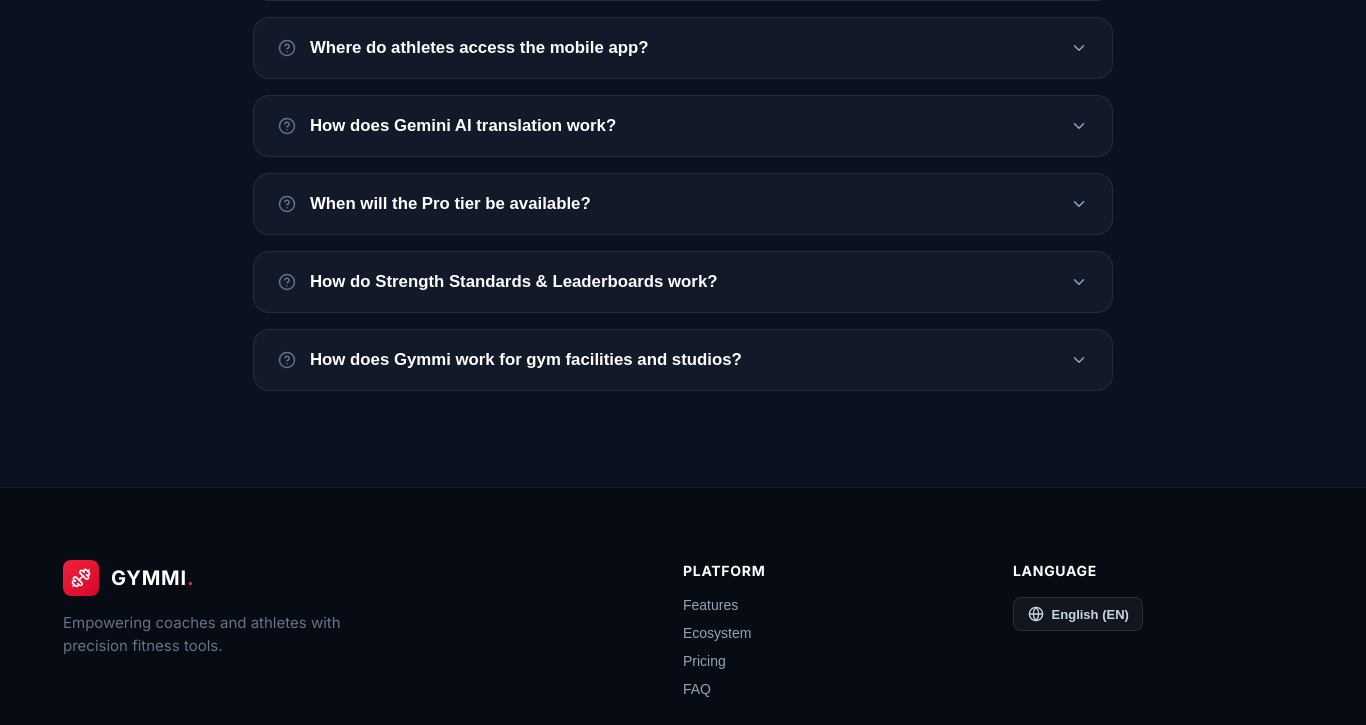
LandingPage › renders gym facility section in audience deep dive and faq
(page scrolled)
Expected: the text "How does Gymmi work for gym facilities and studios?" is shown, [310,350,742,370]
Click the button "How does Gymmi work for gym facilities and studios?". click: (683, 360)
box: [254,330,1112,390]
(page scrolled)
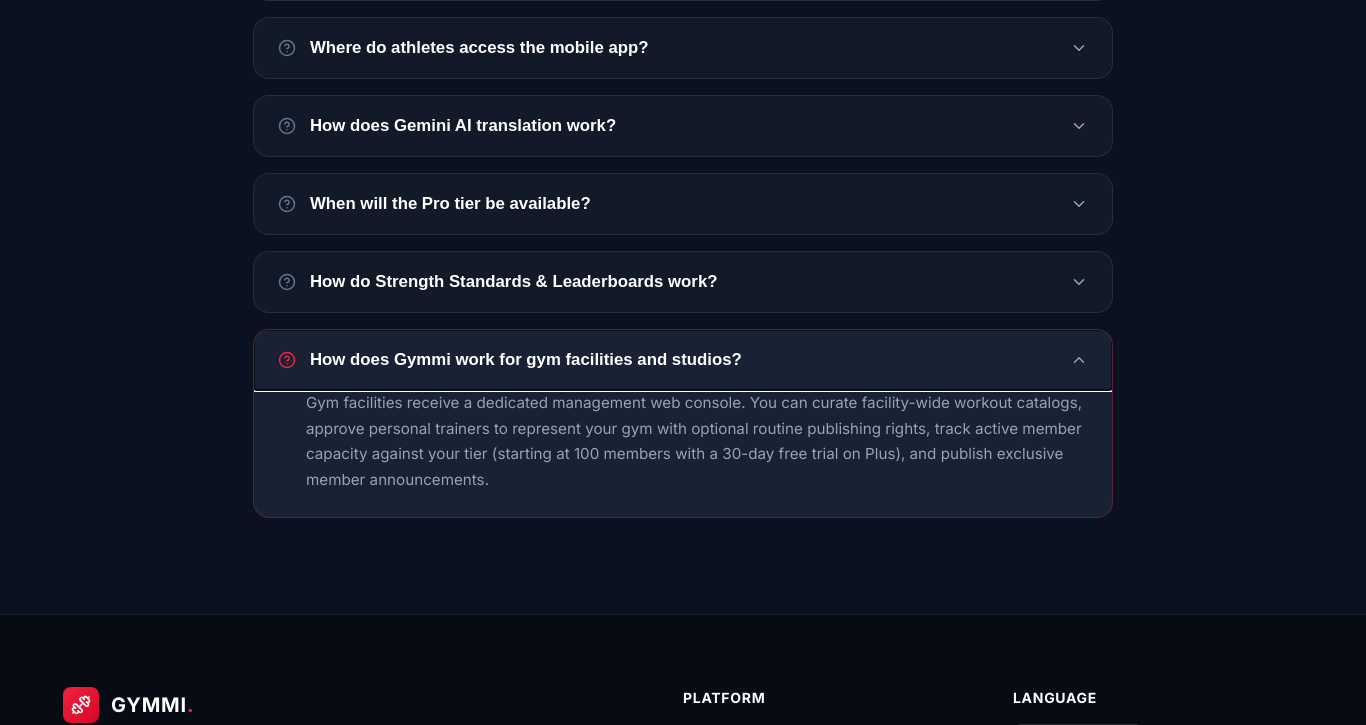
Expected: the text "Gym facilities receive a dedicated management web console" is shown, [306,393,1082,489]
